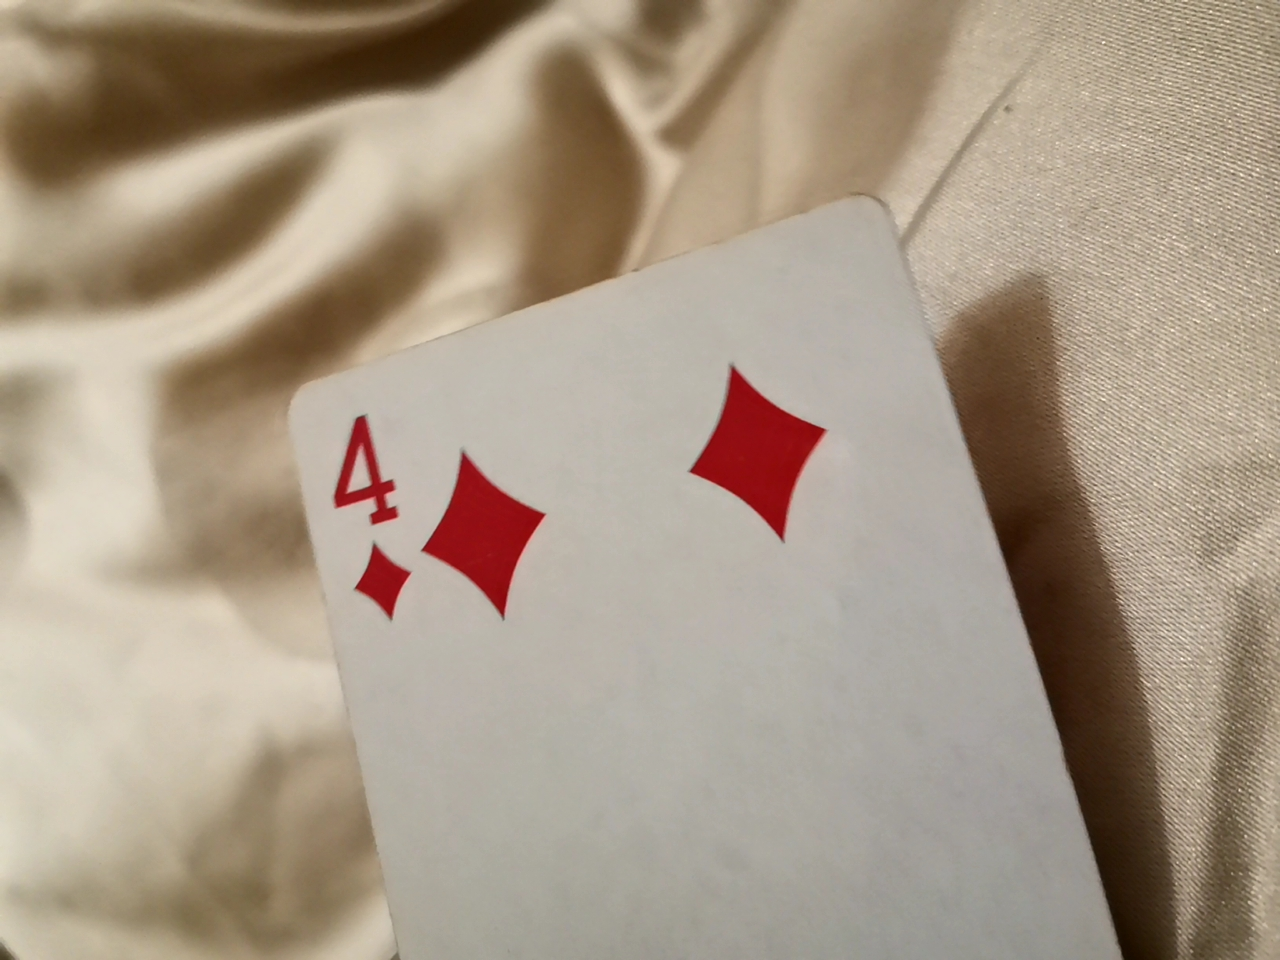fk 4: (185, 153, 1205, 951)
